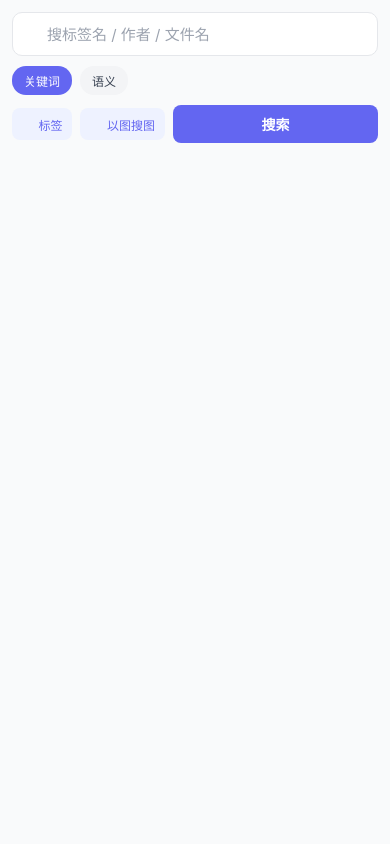
Test: SearchScreen（M3） › 标签筛选弹层：打开后显示标签库规模提示（不全量渲染）
Click the text "标签" at (50, 124), box x1=38 y1=116 x2=62 y2=132
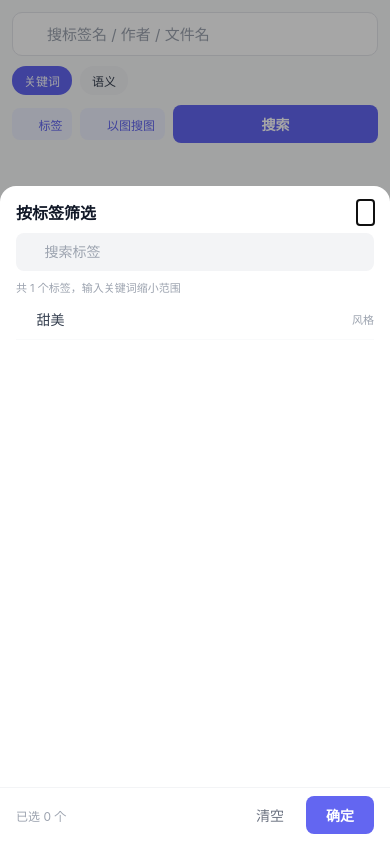
Now the text "按标签筛选" is shown, box x1=16 y1=200 x2=96 y2=224
Now the text "共 1 个标签，输入关键词缩小范围" is shown, box x1=16 y1=281 x2=181 y2=295
Now the text "甜美" is shown, box x1=36 y1=311 x2=64 y2=328
